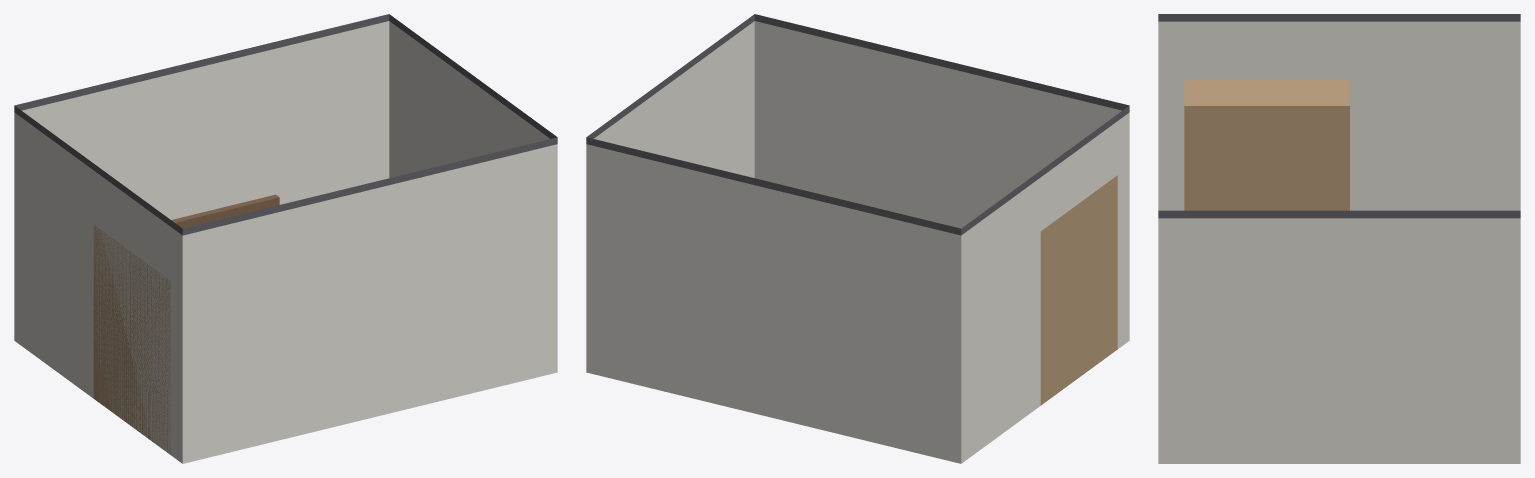
3 views of the same model, side by side, from view 1: azimuth 30°, elevation 25°; view 2: azimuth 150°, elevation 25°; view 3: azimuth 270°, elevation 25° (orthographic). The views are drawn at different scales.
Visible parts, largest first — view 1: Room; view 2: Room; view 3: Room.
Part boxes in pixels (x1=…): Room: x1=14, y1=14, x2=557, y2=463; Room: x1=586, y1=14, x2=1129, y2=463; Room: x1=1158, y1=14, x2=1520, y2=463.
Size of the model in its own units: 4.5 by 2.7 by 3.5.
